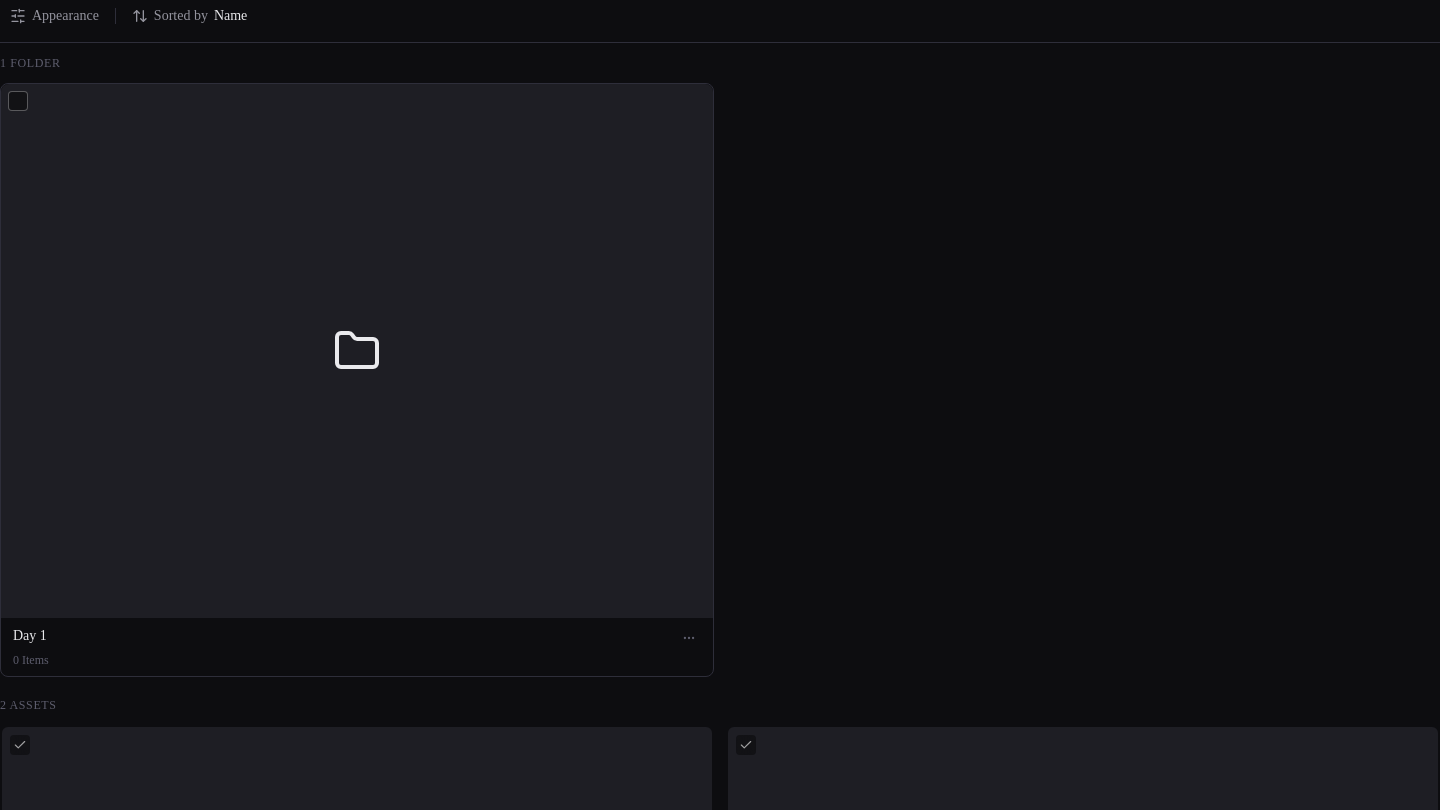
Test case: selection is still fully possible with a mouse › Escape clears the selection
Click the button named "Select A One".
click(20, 745)  # box [10,735,30,755]
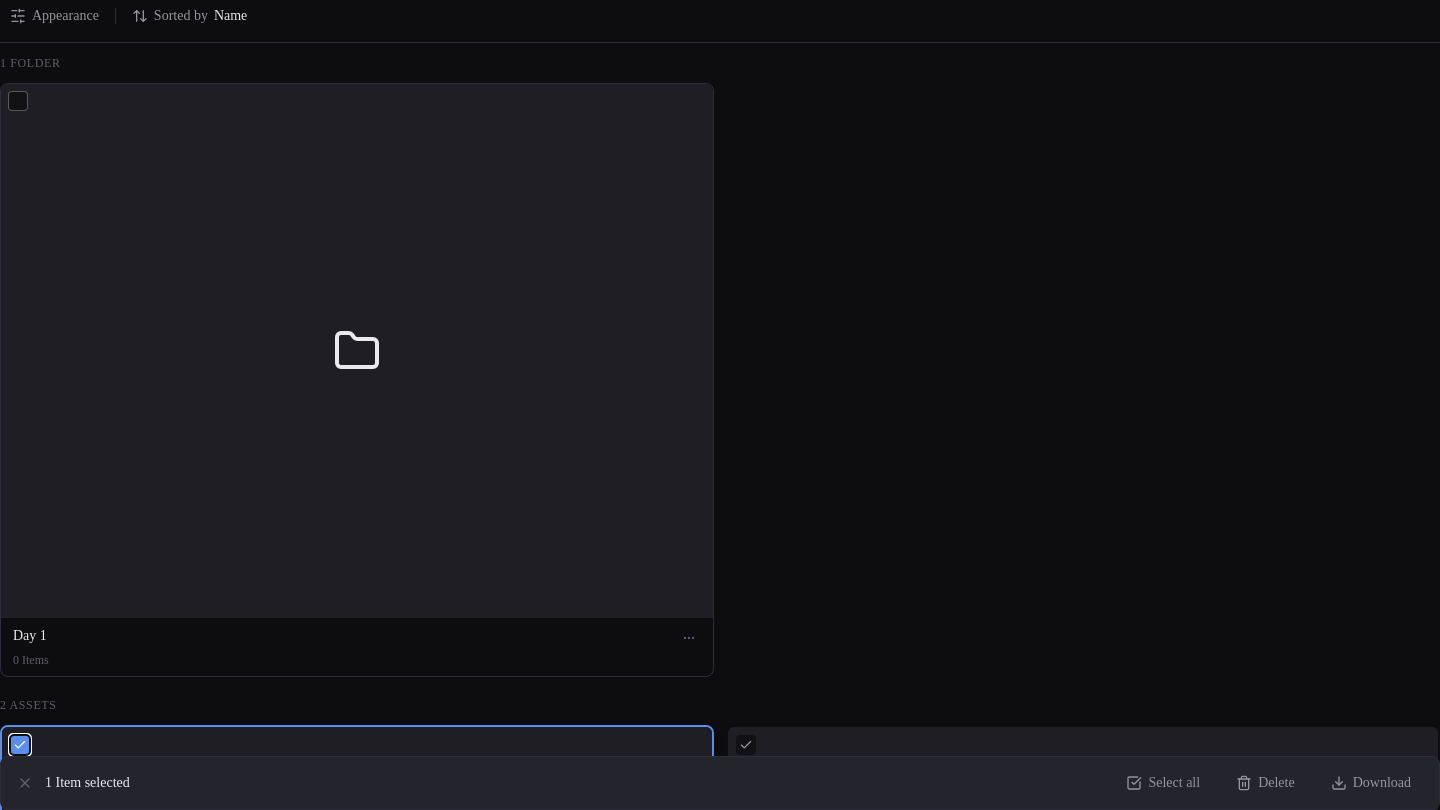
Press Escape
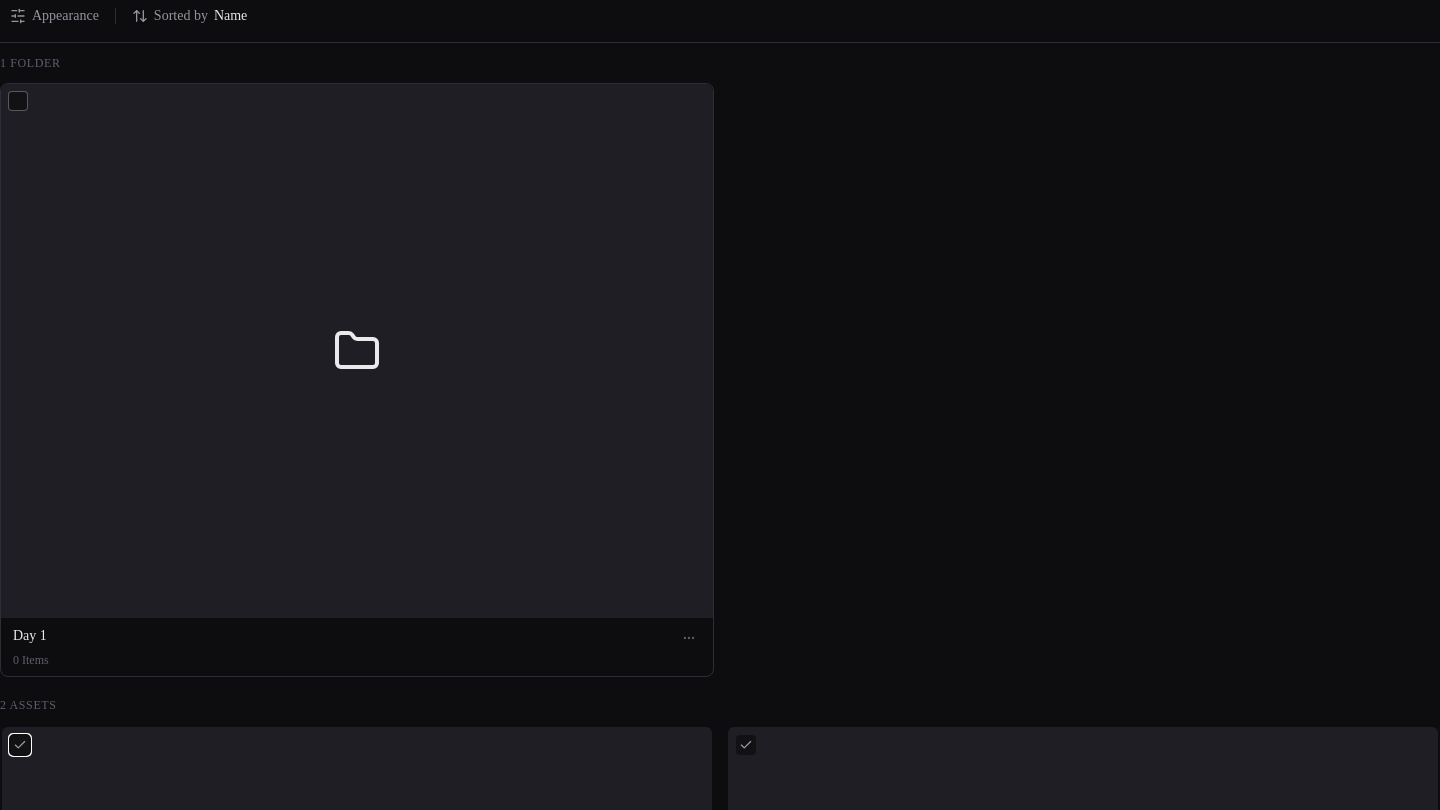
Check: the text "1 Item selected" is gone
